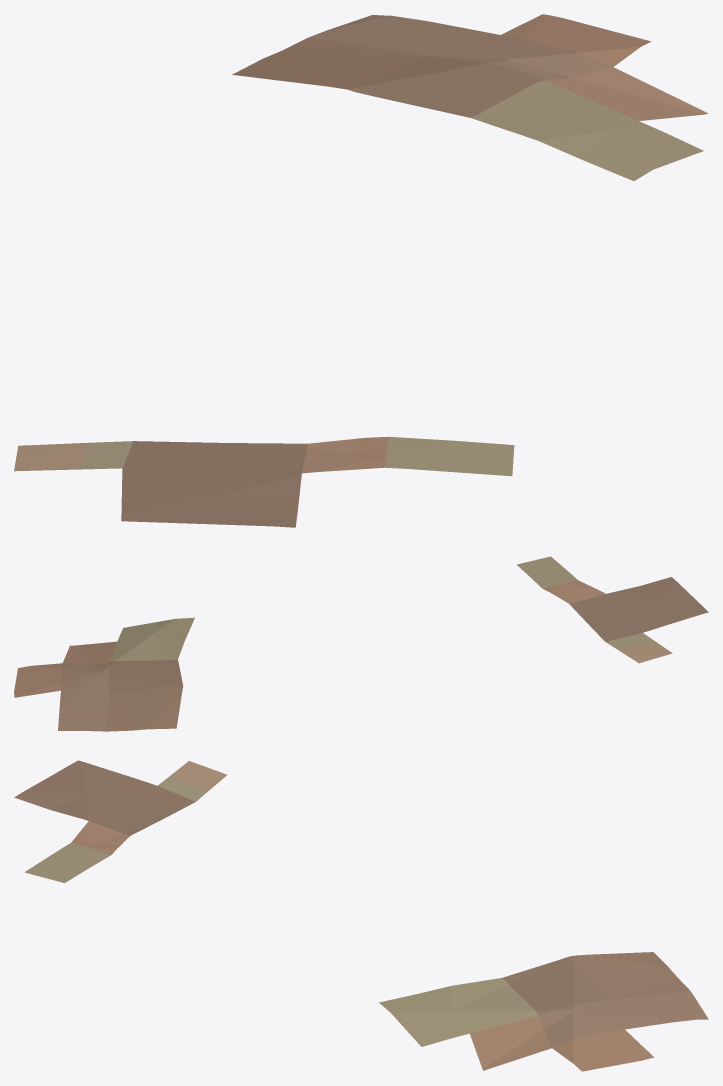
The model's file is farm_10_0_soil.glb.
3 renders of one model, top to bottom at view 1: azimuth 30°, elevation 25°; view 2: azimuth 150°, elevation 25°; view 3: azimuth 270°, elevation 25°, orthographic. The views are drawn at different scales.
Parts seen in each view (by area): view 1: geometry_0; view 2: geometry_0; view 3: geometry_0.
Part boxes in pixels (left/top/right/bottom): geometry_0: left=14, top=14, right=708, bottom=527; geometry_0: left=14, top=556, right=708, bottom=731; geometry_0: left=14, top=760, right=708, bottom=1071.
Size of the model in its own units: 452 by 23.55 by 456.
